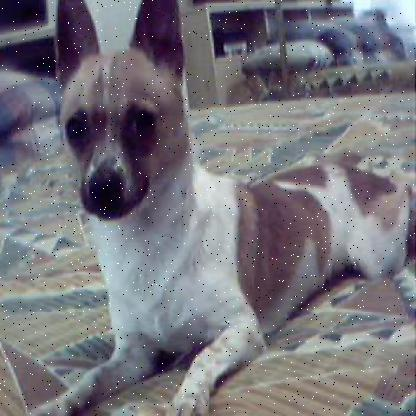dog: (50, 0, 410, 408)
